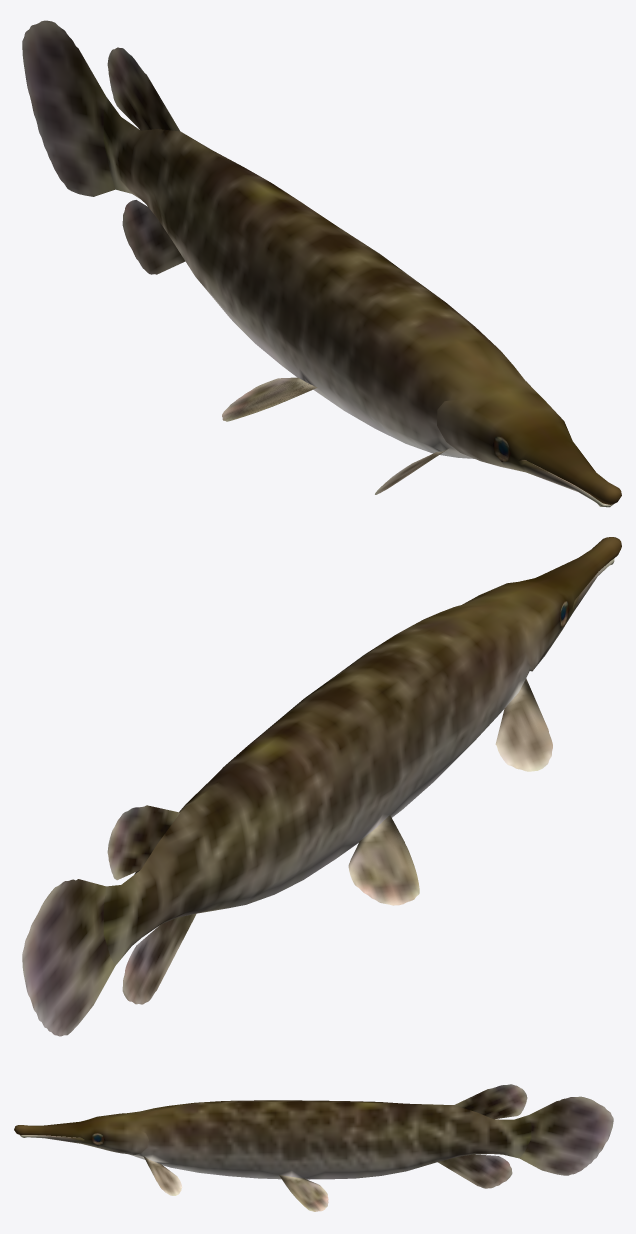
The model's file is gar.glb.
3 views of the same model, one above another, from view 1: azimuth 30°, elevation 25°; view 2: azimuth 150°, elevation 25°; view 3: azimuth 270°, elevation 25° (orthographic). The views are drawn at different scales.
Size of the model in its own units: 3.63 by 3.57 by 16.3.
Materials: 1 (1 with a texture image).
